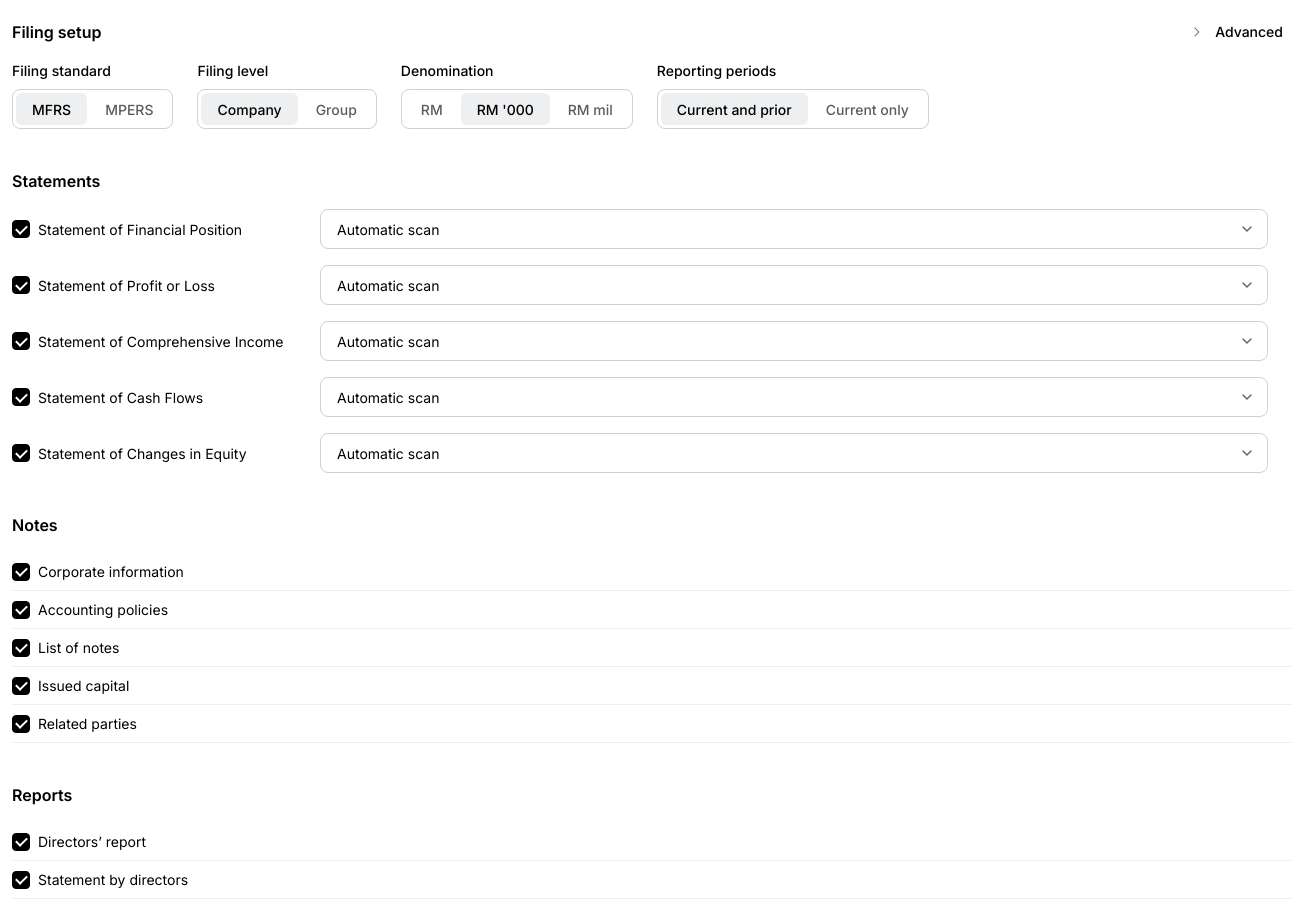
Test: PreRunPanel › scout event log stays hidden until the first tool_call arrives
The image size is (1304, 909).
Click the button with test id "advanced-toggle" at (1235, 32), box 1178,12 -> 1292,52
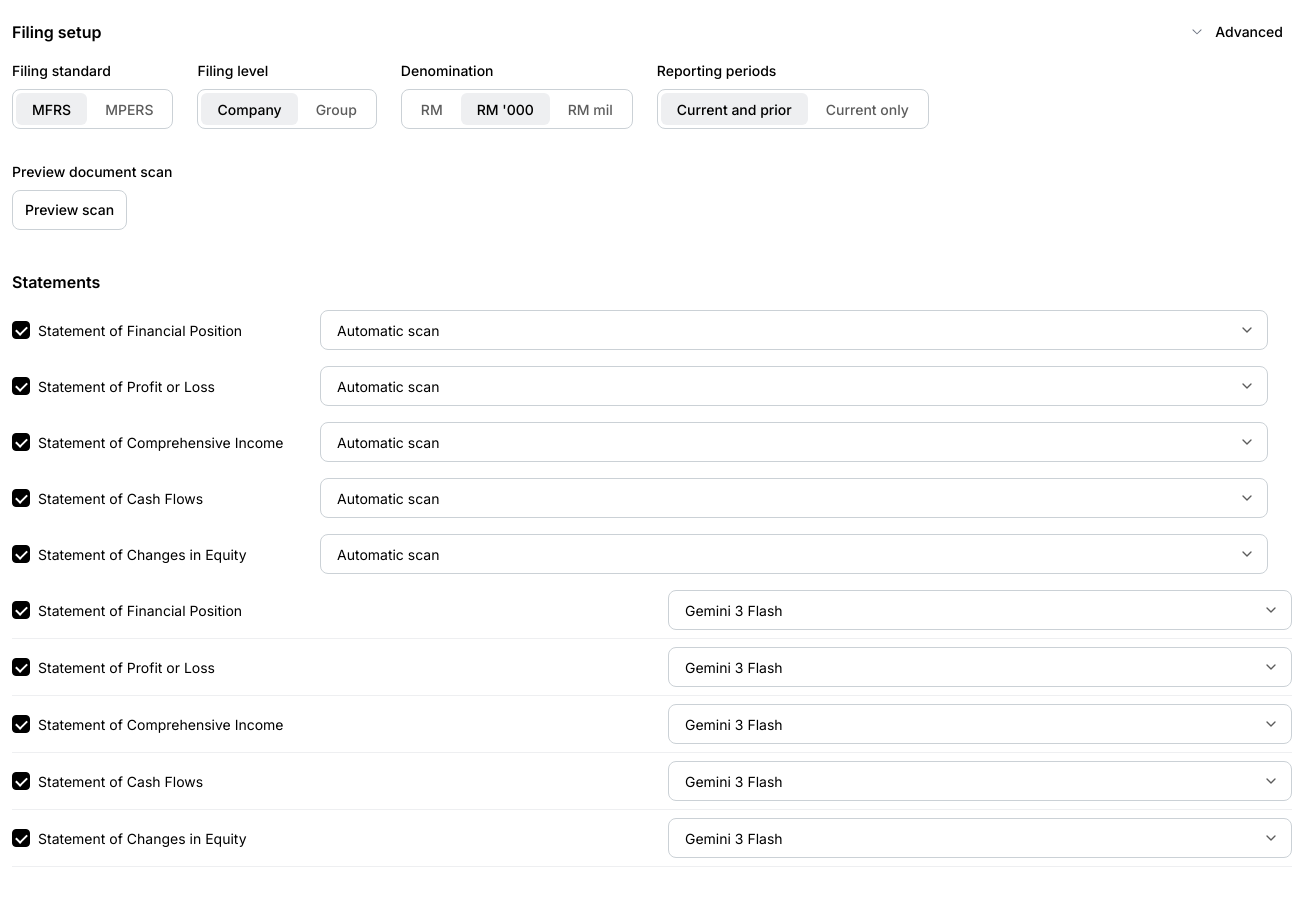
Expected: the button with aria-label "auto-detect" is shown, 12,190 -> 127,230
